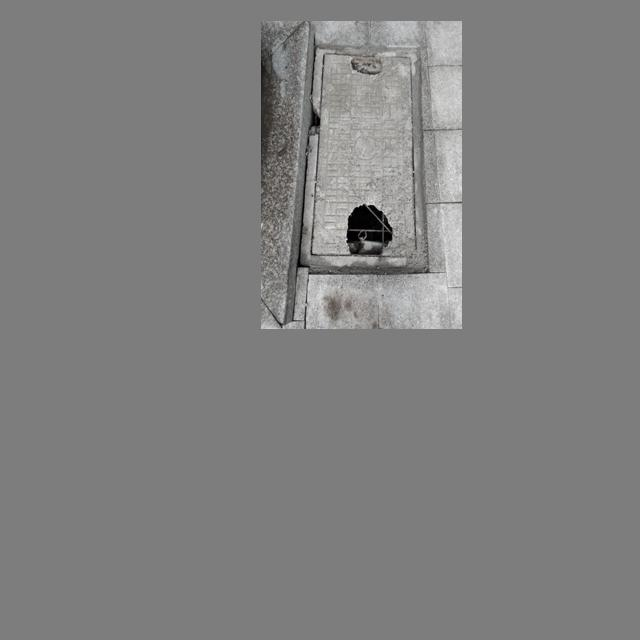broke: (300, 43, 426, 268)
